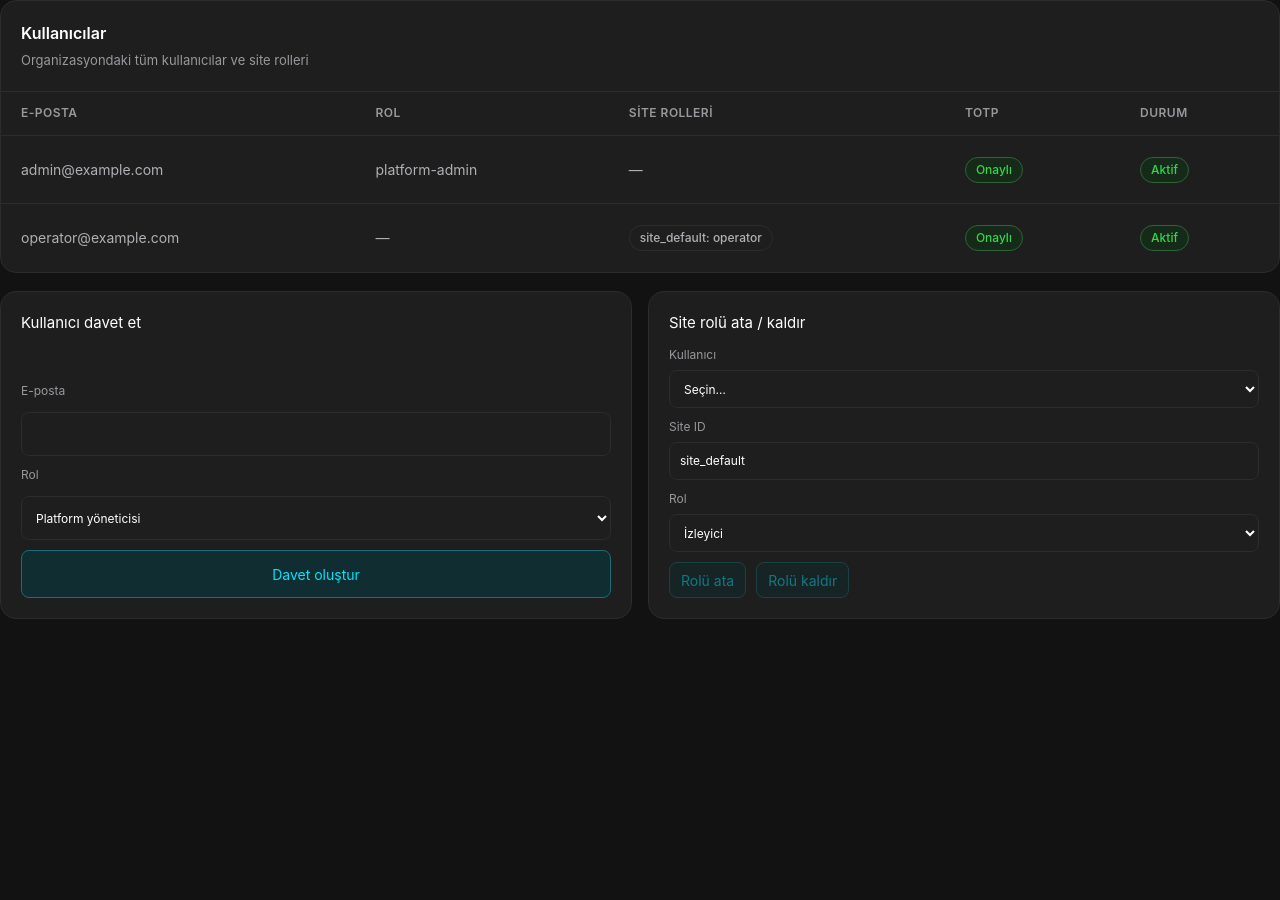
it: SettingsUsersTab › assigns a site role with a CSRF header and refreshes the list
The image size is (1280, 900).
Expected: the table named "Kullanıcılar" is shown, [1,92,1279,272]
Select "operator@example.com" in the dropdown labelled "Kullanıcı". click: (964, 389)
box: [669,370,1259,408]
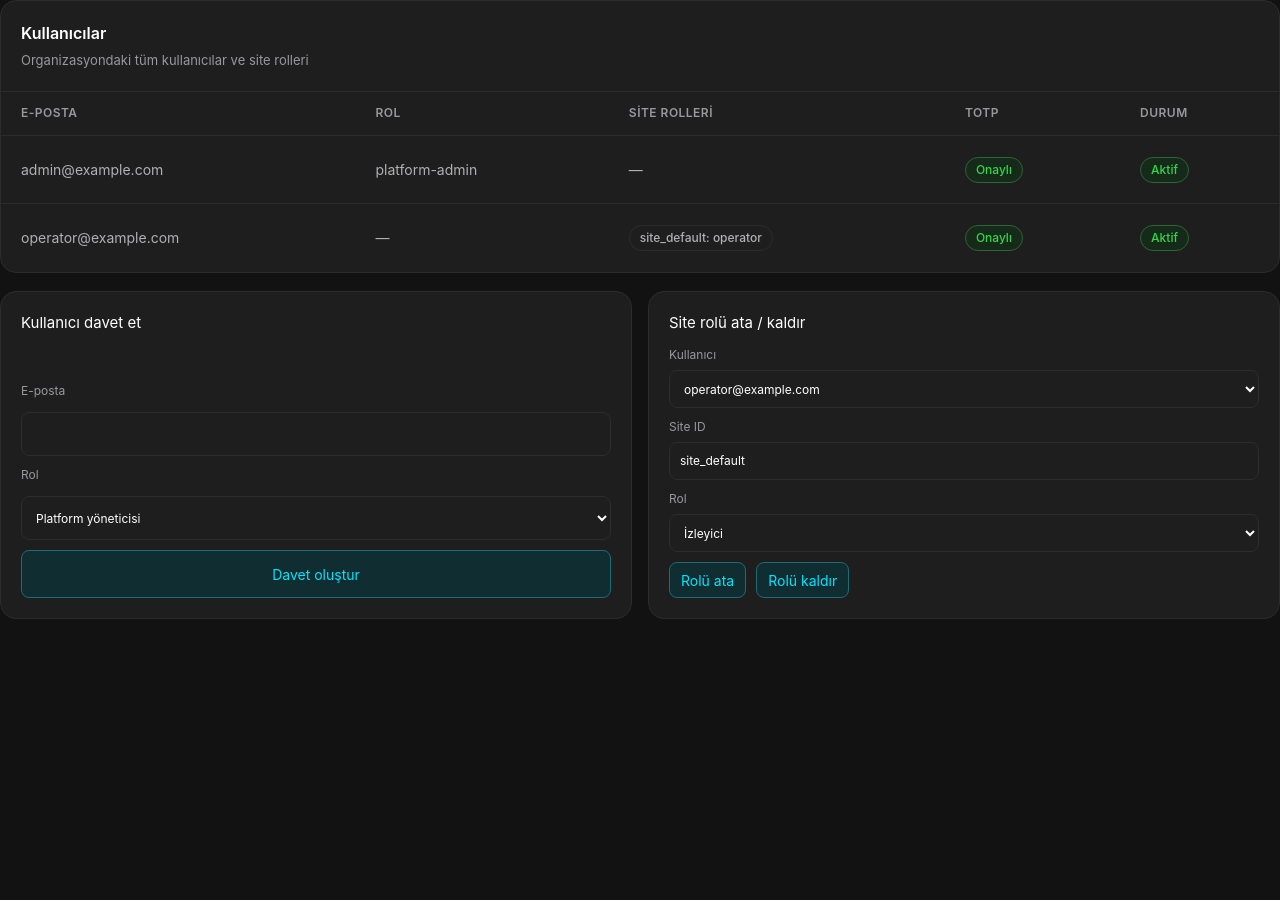
Replace the text in the field labelled "Site ID" with "site-b". click: (964, 461)
box: [669,442,1259,480]
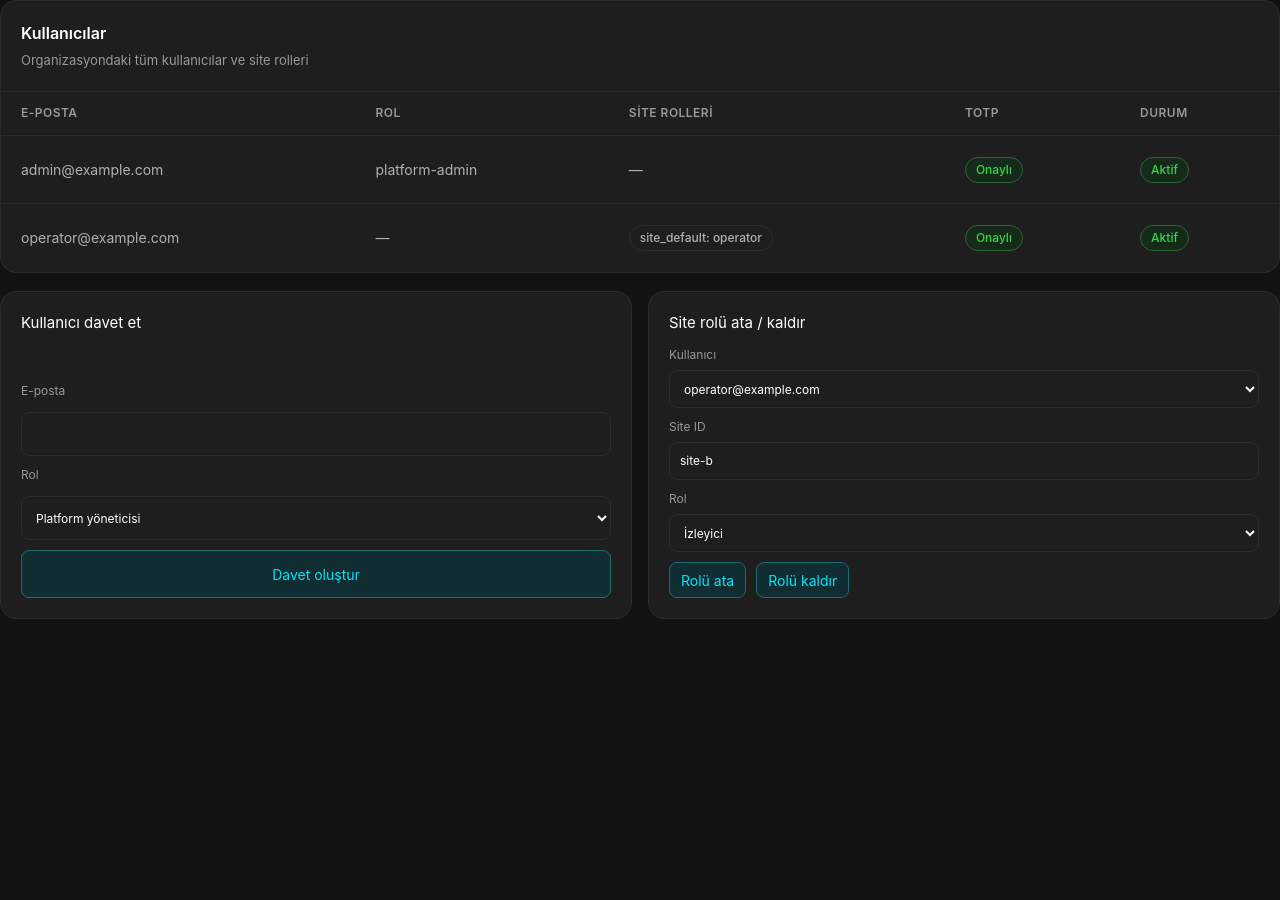
Click the button "Rolü ata". click: (708, 580)
box: [669,562,746,598]
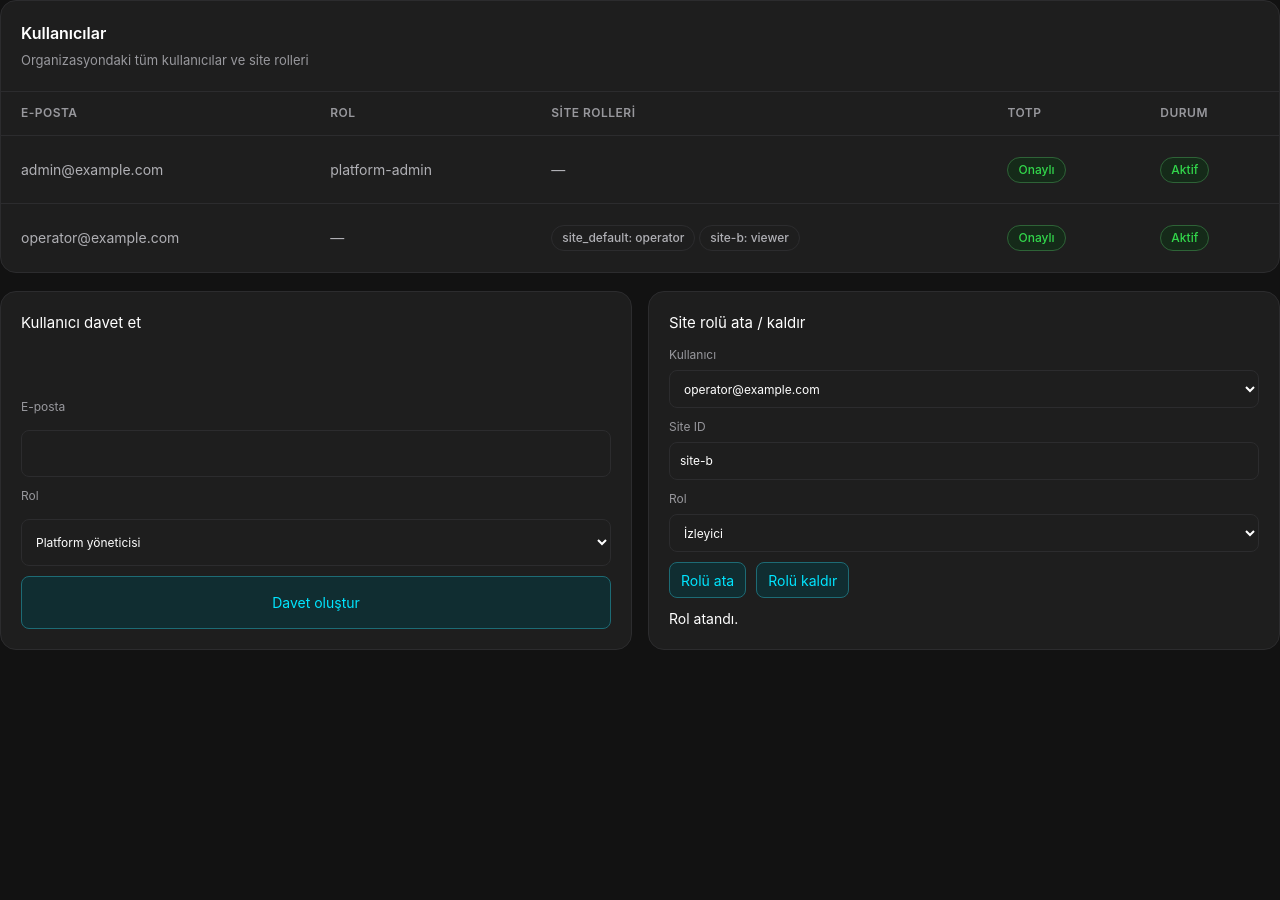
Expected: the text "site-b: viewer" is shown, [699,225,800,251]
